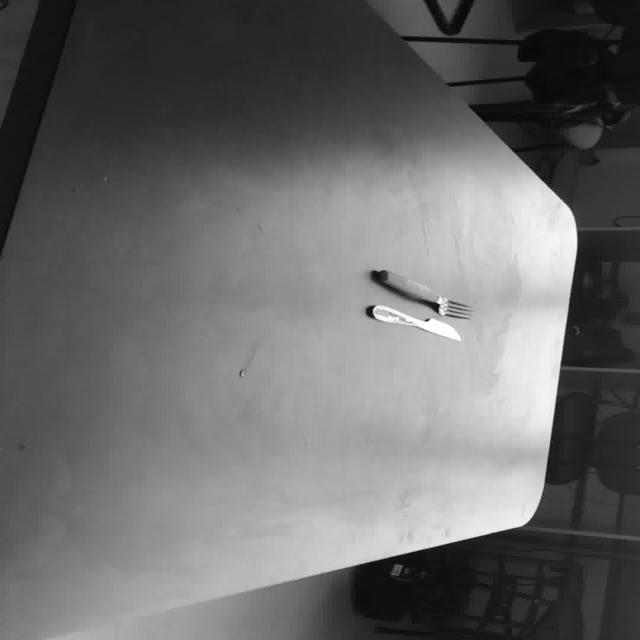knife: (373, 268, 472, 319)
knife fork: (364, 304, 461, 341)
